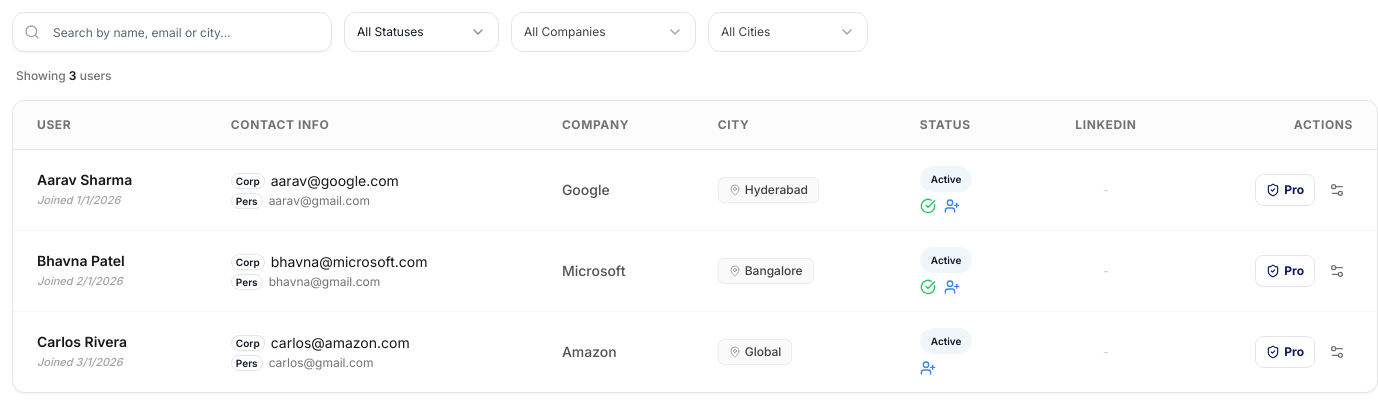
it: Admin UsersTab Component - City Filter › filters users when searching by city name in main search
Type "Bangalore" into the field with placeholder "Search by name, email or city..." at [172, 32], box [12, 12, 332, 52]
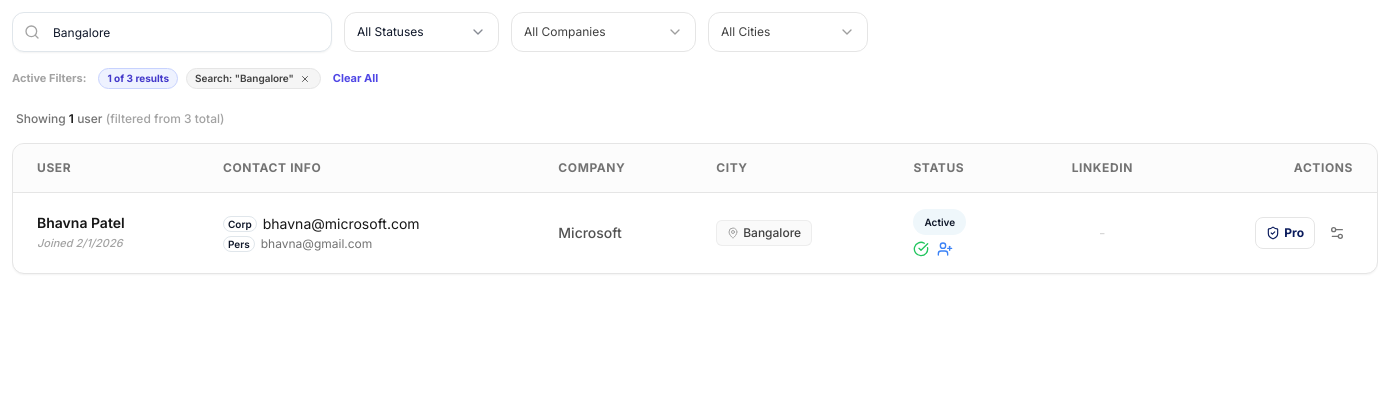
Now the text "Aarav Sharma" is gone
Now the text "Carlos Rivera" is gone
Now the text "1 of 3 results" is shown, box [98, 68, 178, 89]
